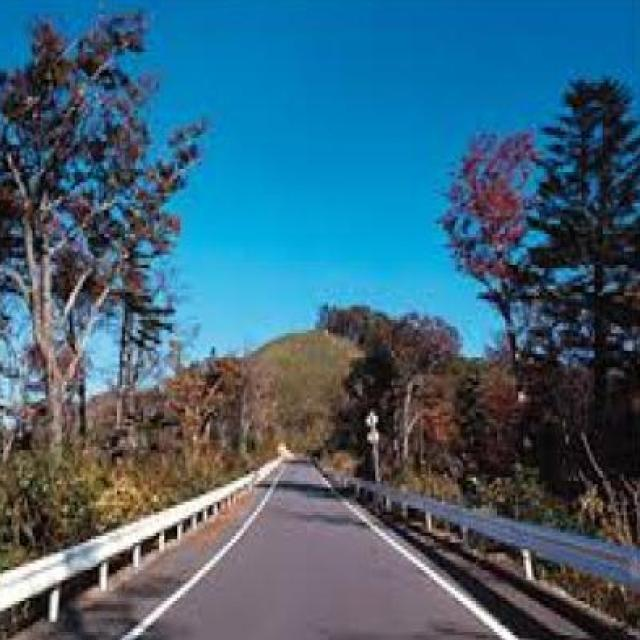Guard rail: (321, 461, 640, 639), (0, 456, 270, 640)
